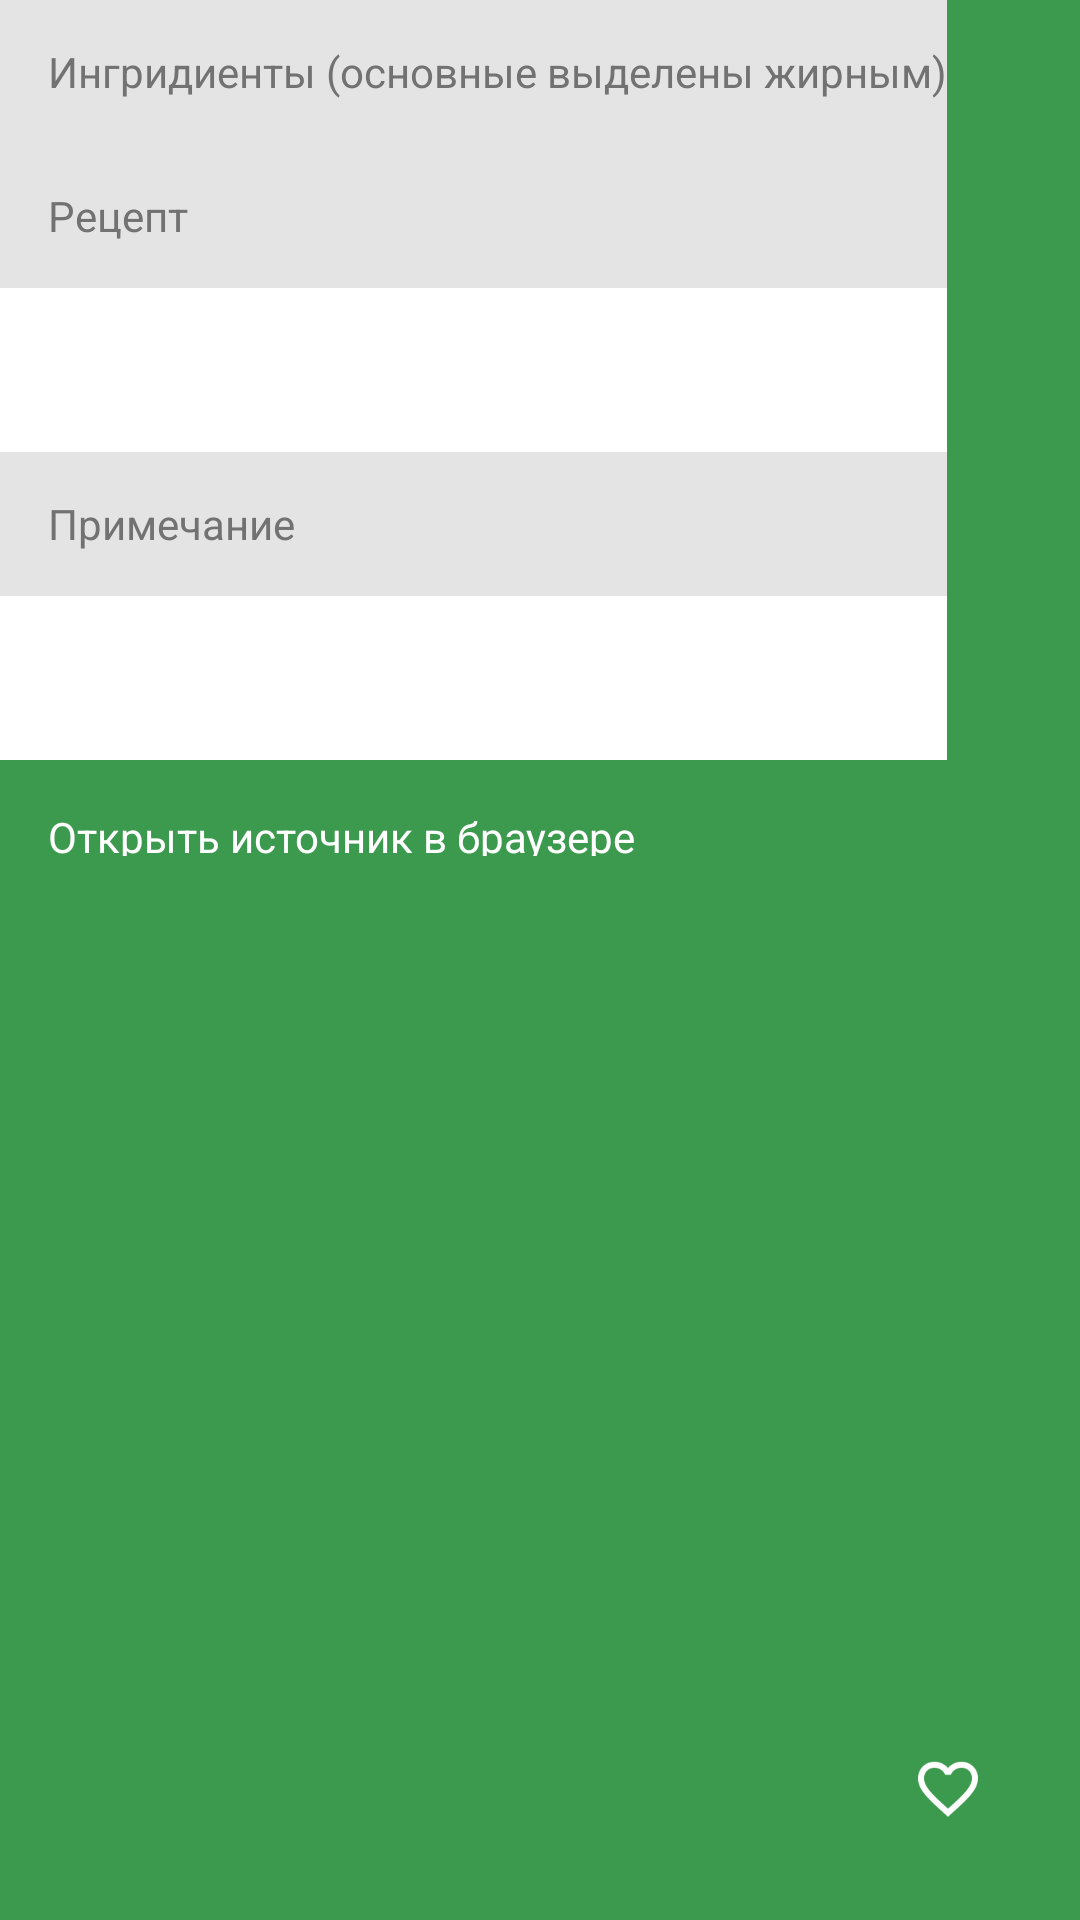

Where icons sit on this 1080px x 1920px app screen, as bbox=(x1, y1, x2, y2):
favorite border: bbox=(918, 1761, 978, 1817)
